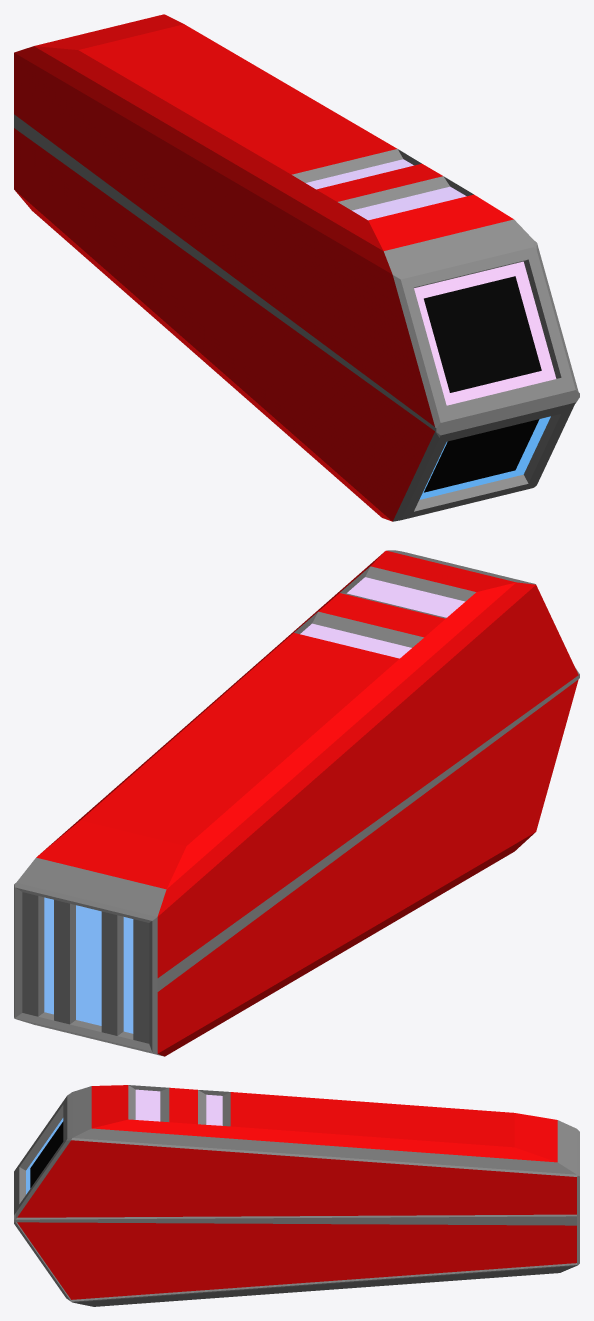
3 renders of one model, top to bottom at view 1: azimuth 30°, elevation 25°; view 2: azimuth 150°, elevation 25°; view 3: azimuth 270°, elevation 25°, orthographic. The views are drawn at different scales.
Parts seen in each view (by area): view 1: Side Body 2; view 2: Side Body 2; view 3: Side Body 2.
Boxes of the visible parts, x1,y1,x2,y2 form: Side Body 2: [14, 14, 579, 521]; Side Body 2: [14, 550, 579, 1056]; Side Body 2: [14, 1085, 579, 1306].
Bounding box in the file's own units: 5.92 × 10.85 × 30.33.
